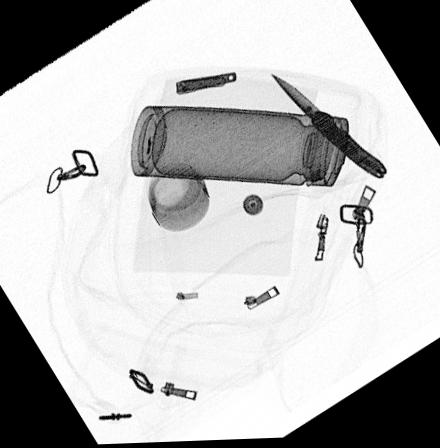Knife: (270, 75, 387, 182)
